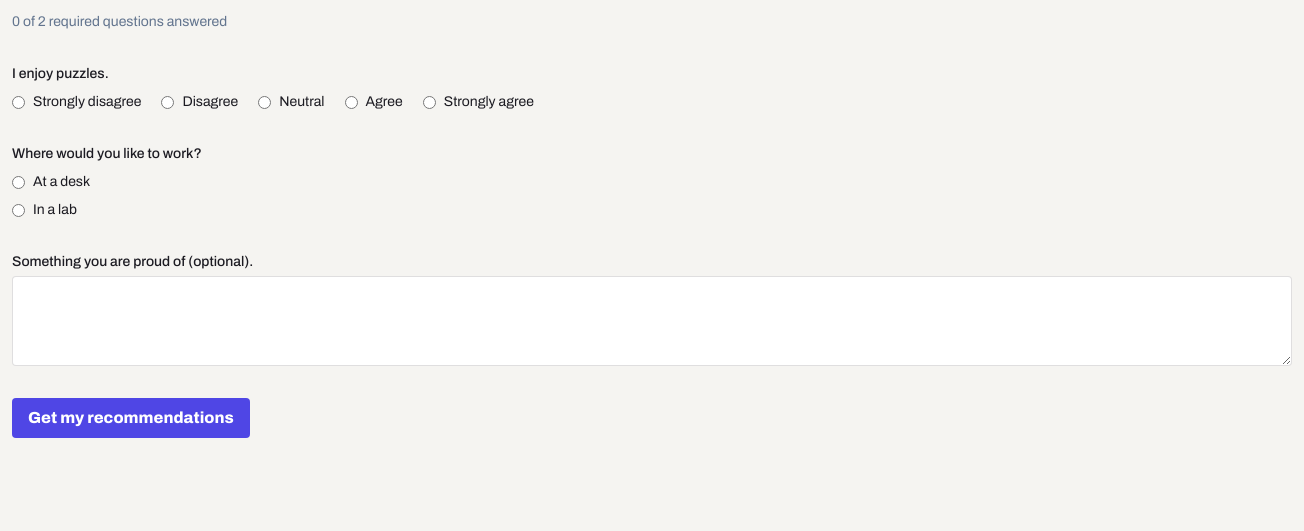
it: QuizForm › shows a friendly message when the AI service is busy
Click the radio button labelled "Neutral". click: {"x": 265, "y": 102}
box: [258,96,271,108]
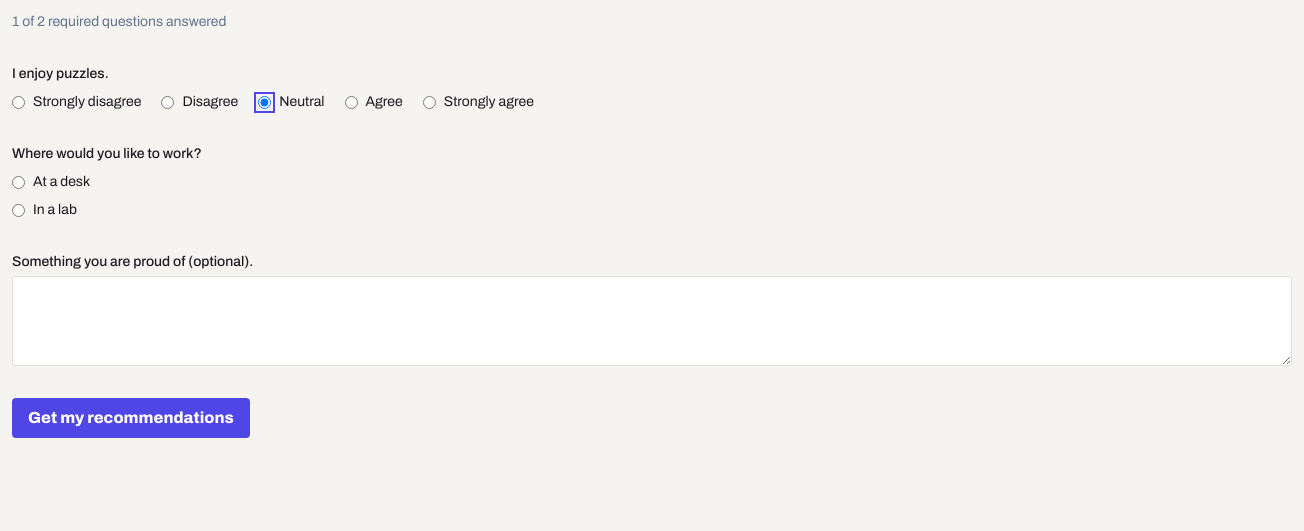
Click the radio button labelled "At a desk". click: {"x": 18, "y": 182}
box: [12,176,25,188]
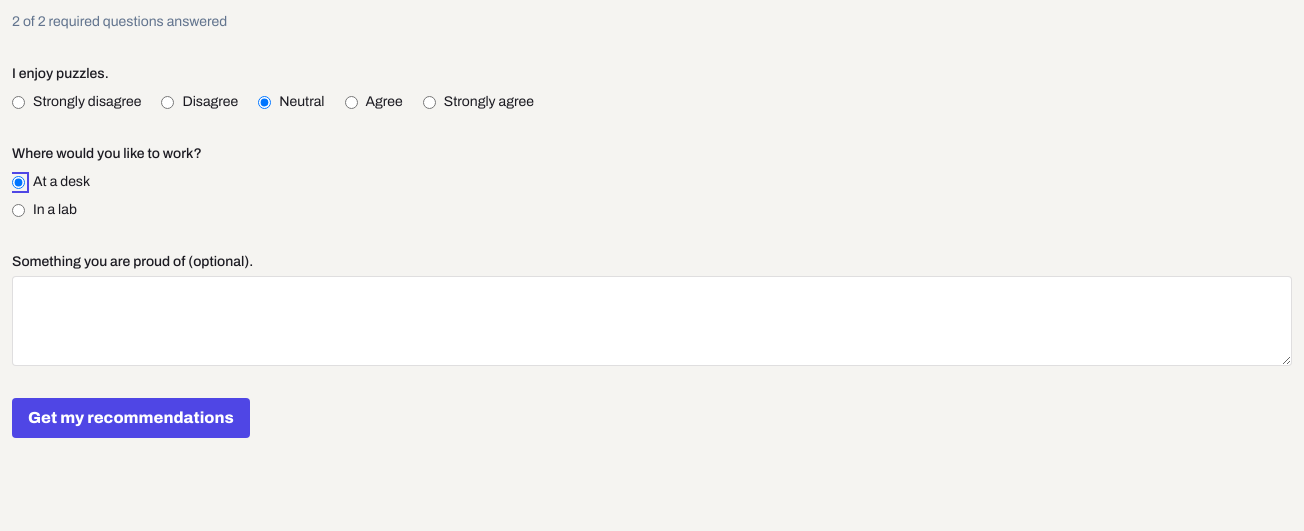
Click the button "Get my recommendations". click: {"x": 131, "y": 418}
box: [12,398,250,438]
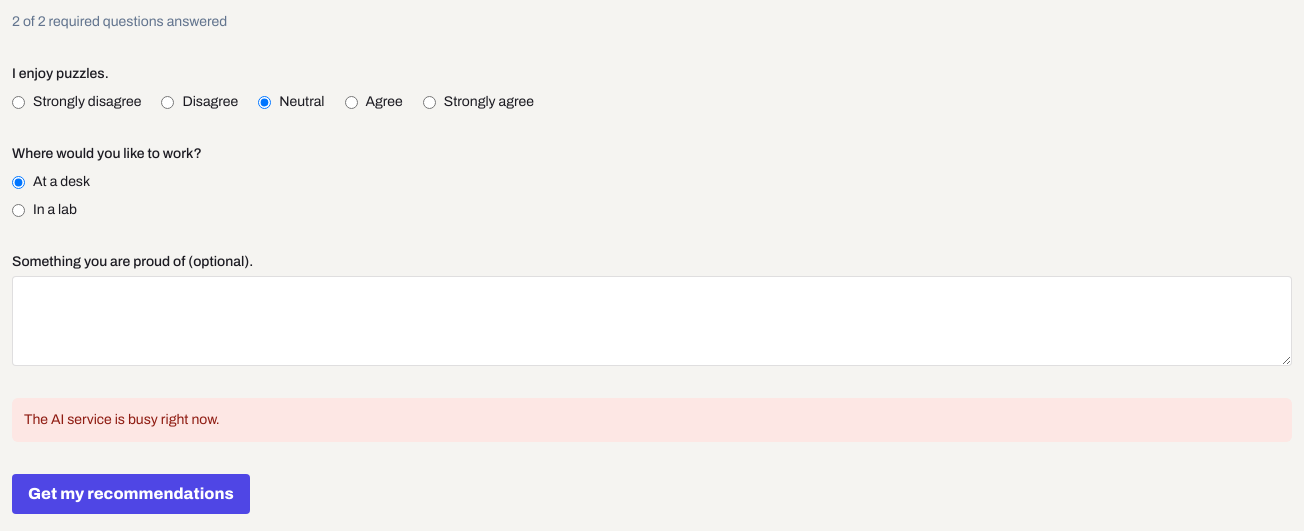
Result: the message "The AI service is busy right now." is shown at [12,398,1292,442]
